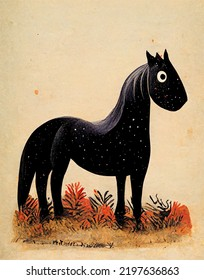animal: (12, 49, 188, 225)
